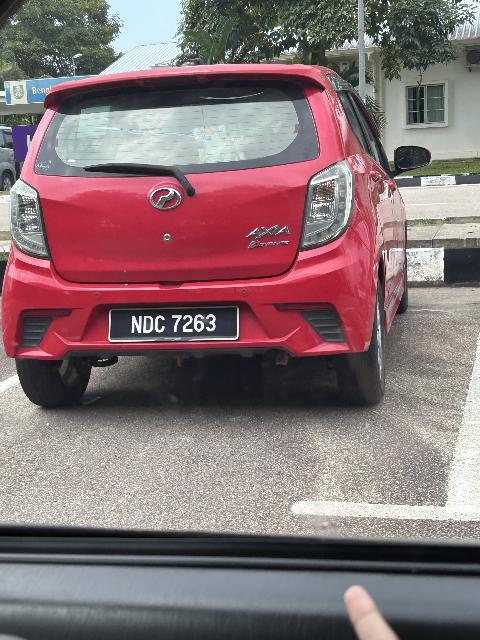License_Plate: (108, 306, 243, 342)
NDC7263: (108, 306, 243, 342)
car: (3, 60, 437, 406)
